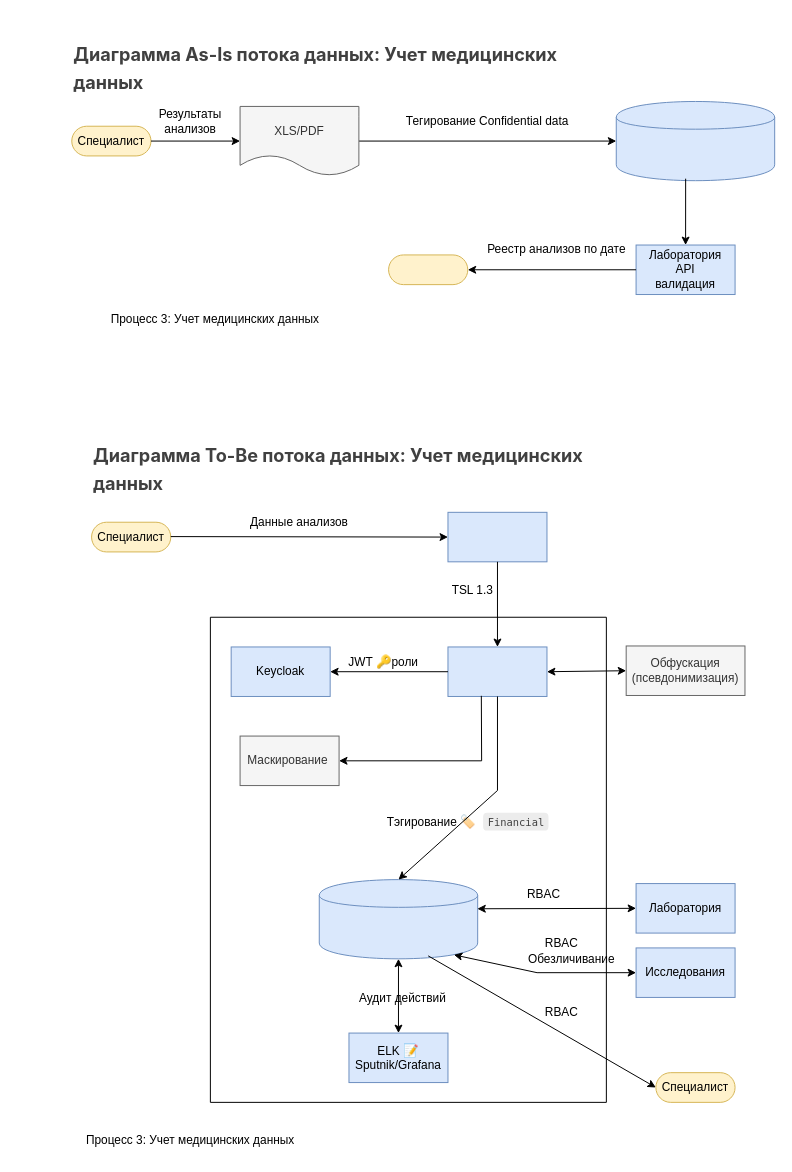
This 792x1172 diagram has some shape labels left out. The shapes that lost their labels are listed below. From the top down, each one's centre as x and y in pixels, then its label:
At point (695, 140): "Общий диск Шифрование".
At point (428, 269): "Exel Registry".
At point (497, 536): "Мед. ИС".
At point (497, 671): "Обработка данных".
At point (398, 919): "База данных AES-256 🔒".
